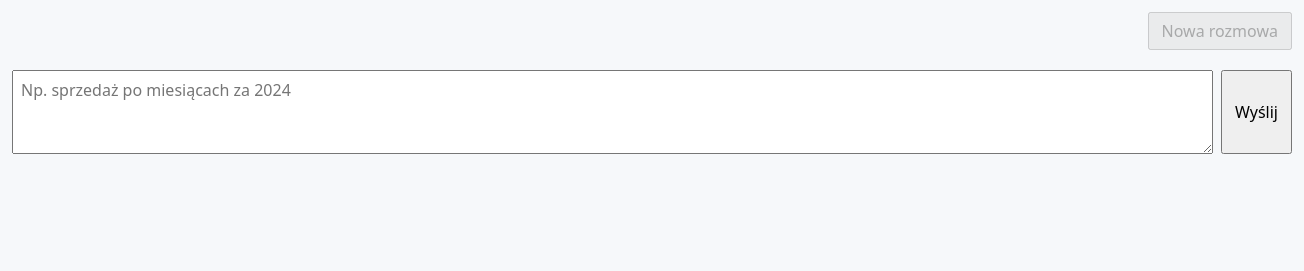
it: ChatView › shows HTML in a message as text
The image size is (1304, 271).
Type "Raport" into the text box named "Twoja prośba".
click(612, 112); type("Raport")  # box [12,70,1213,154]
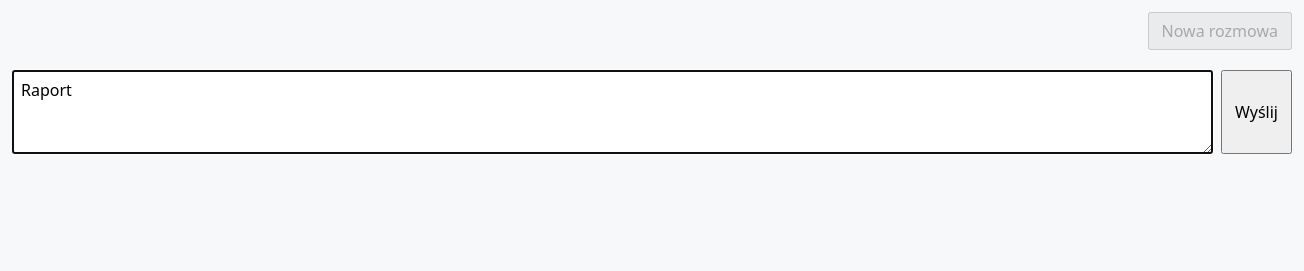
Click the button "Wyślij".
click(1256, 112)  # box [1221,70,1292,154]
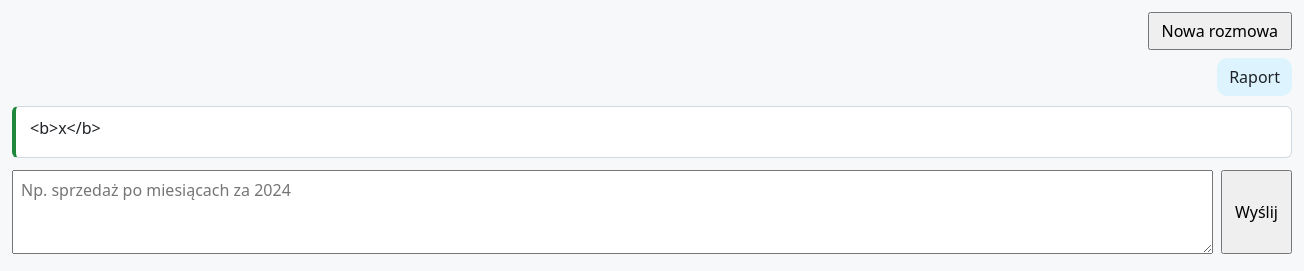
Expected: the text "<b>x</b>" is shown, [30,117,101,139]
